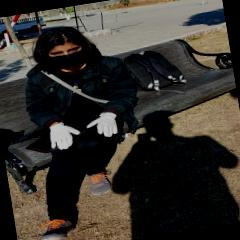gloved: (47, 119, 79, 152), (85, 111, 120, 140)
